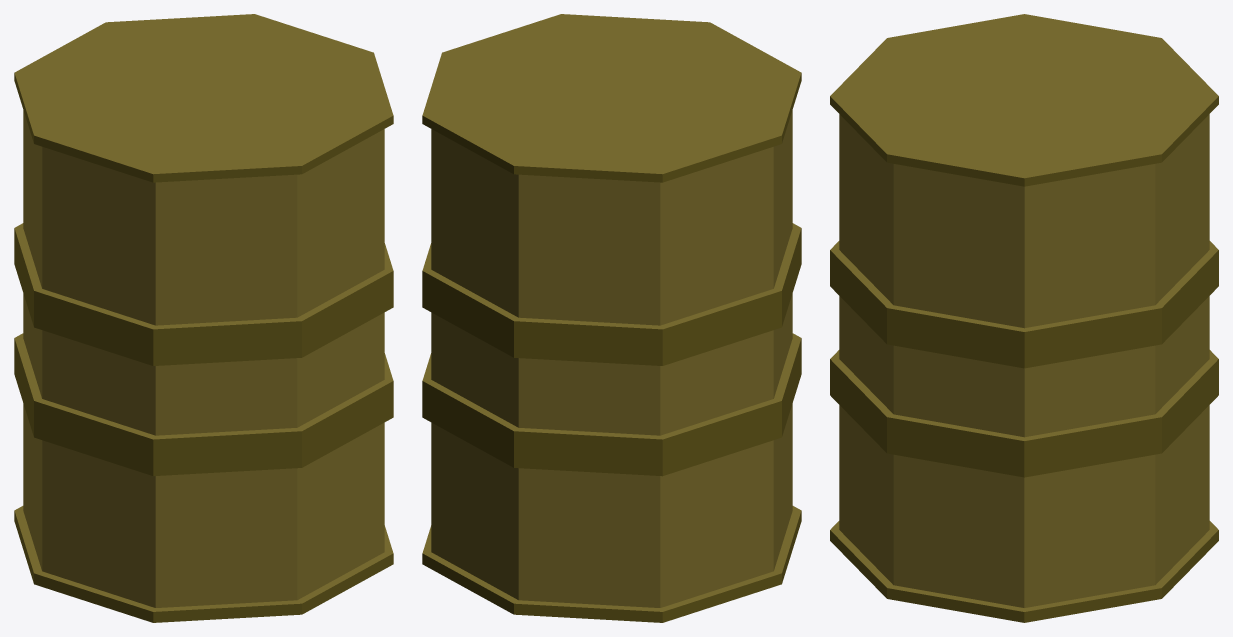
File: barrel3.fbx
3 views of the same model, side by side, from view 1: azimuth 30°, elevation 25°; view 2: azimuth 150°, elevation 25°; view 3: azimuth 270°, elevation 25° (orthographic).
Parts seen in each view (by area): view 1: Cylinder -col; view 2: Cylinder -col; view 3: Cylinder -col.
Part boxes in pixels (left/top/right/bottom): Cylinder -col: left=14, top=14, right=393, bottom=622; Cylinder -col: left=422, top=14, right=801, bottom=622; Cylinder -col: left=830, top=14, right=1218, bottom=622.
Bounding box in the file's own units: 210 × 265 × 210.
